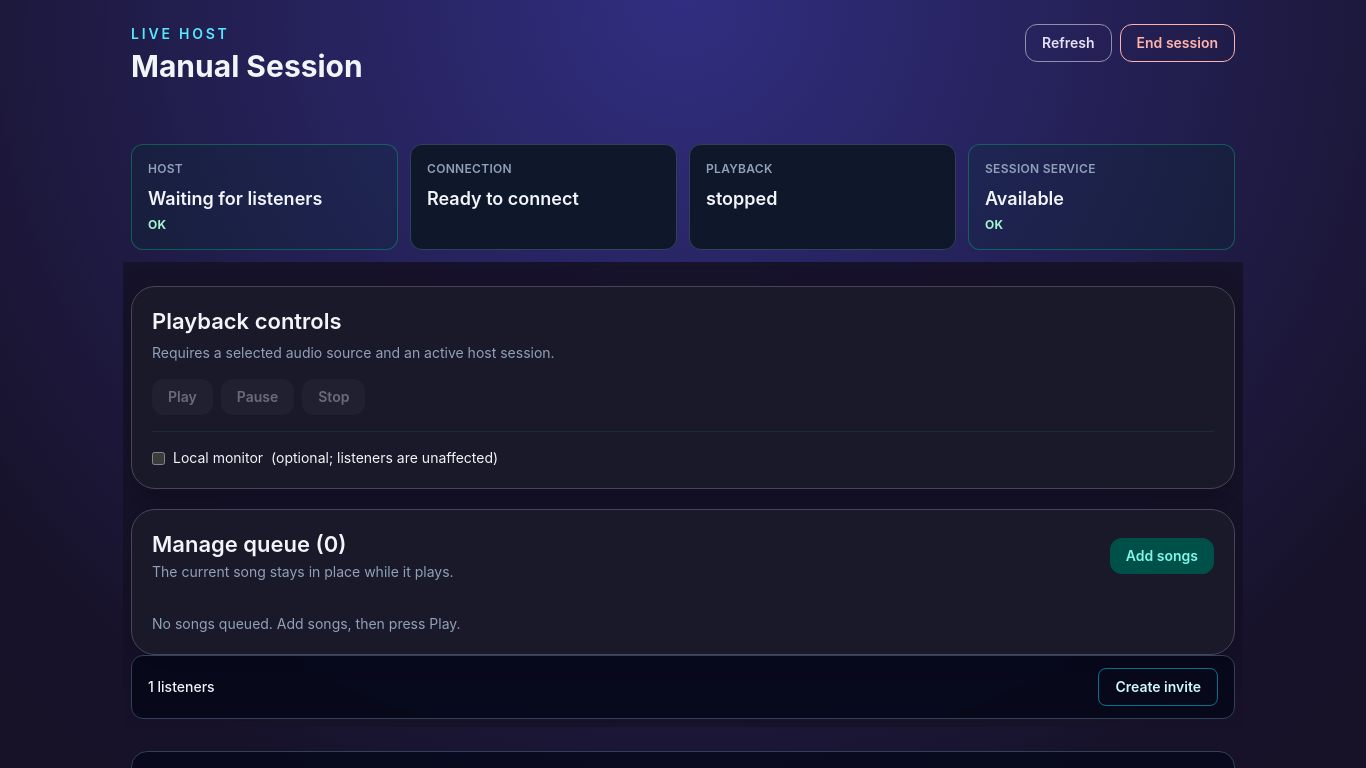
Test: HostSessionScreen Block 23 › releases End session after a newer snapshot reports the effect failed
The width and height of the screenshot is (1366, 768).
Click the button "End session". click: click(1177, 43)
box: [1120,24,1235,62]
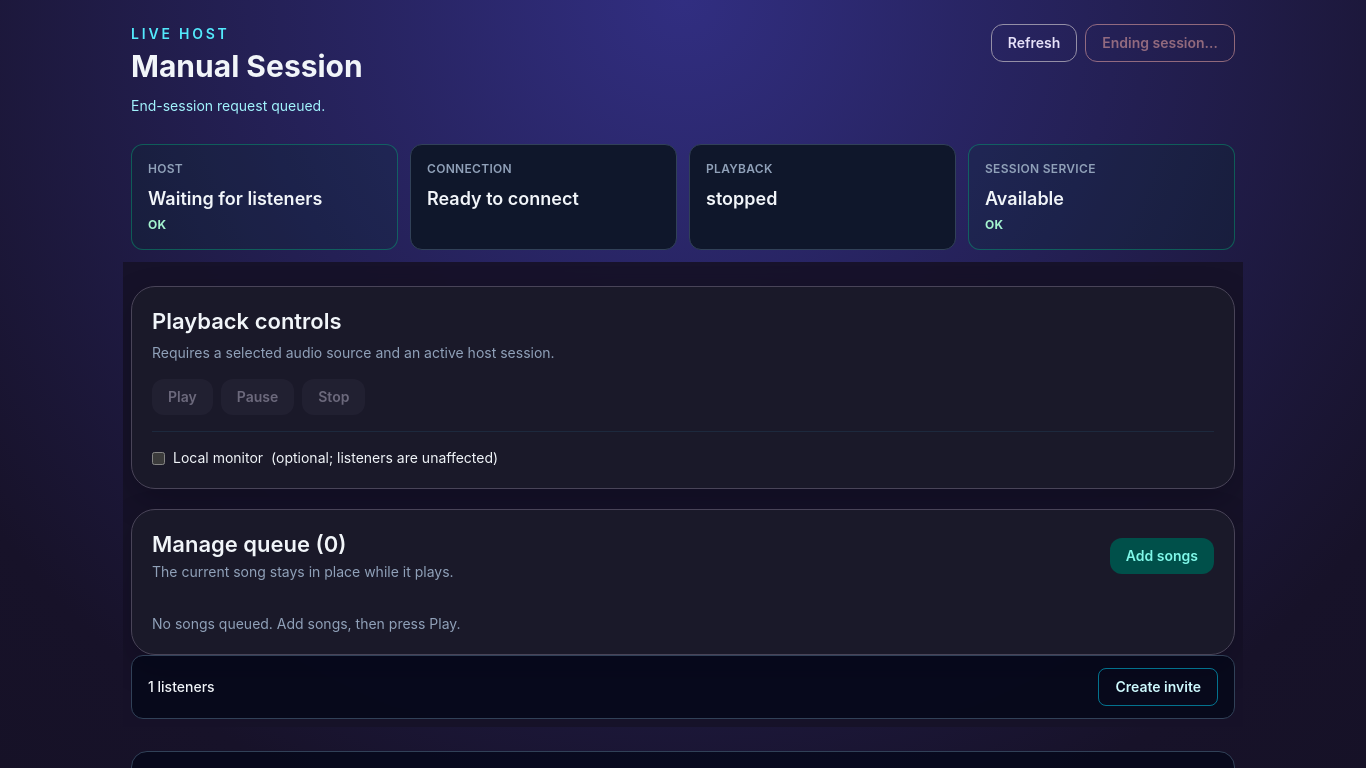
Expected: the button named "End session" is disabled, [1085,24,1235,62]
Click the button "Refresh". click: click(1034, 43)
box: [991,24,1077,62]
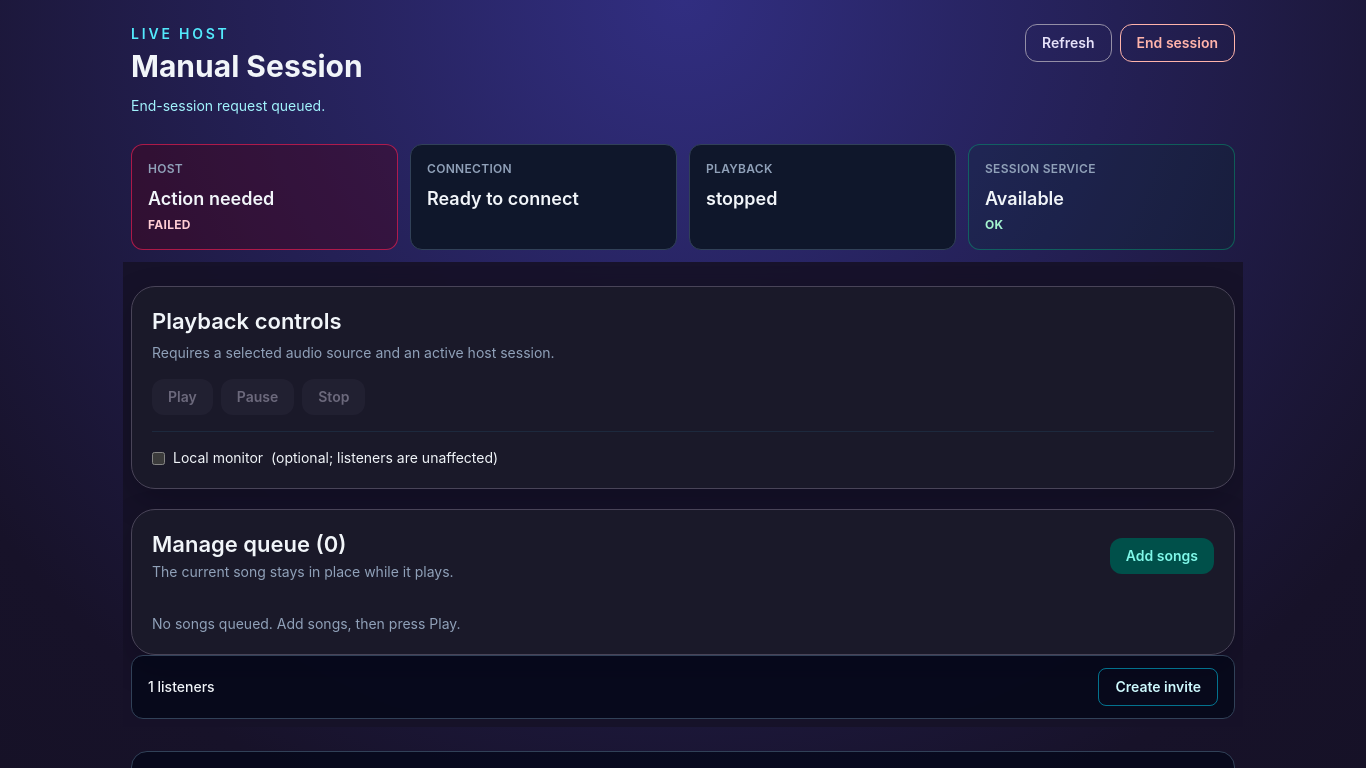
Expected: the button "End session" is enabled, [1120,24,1235,62]
